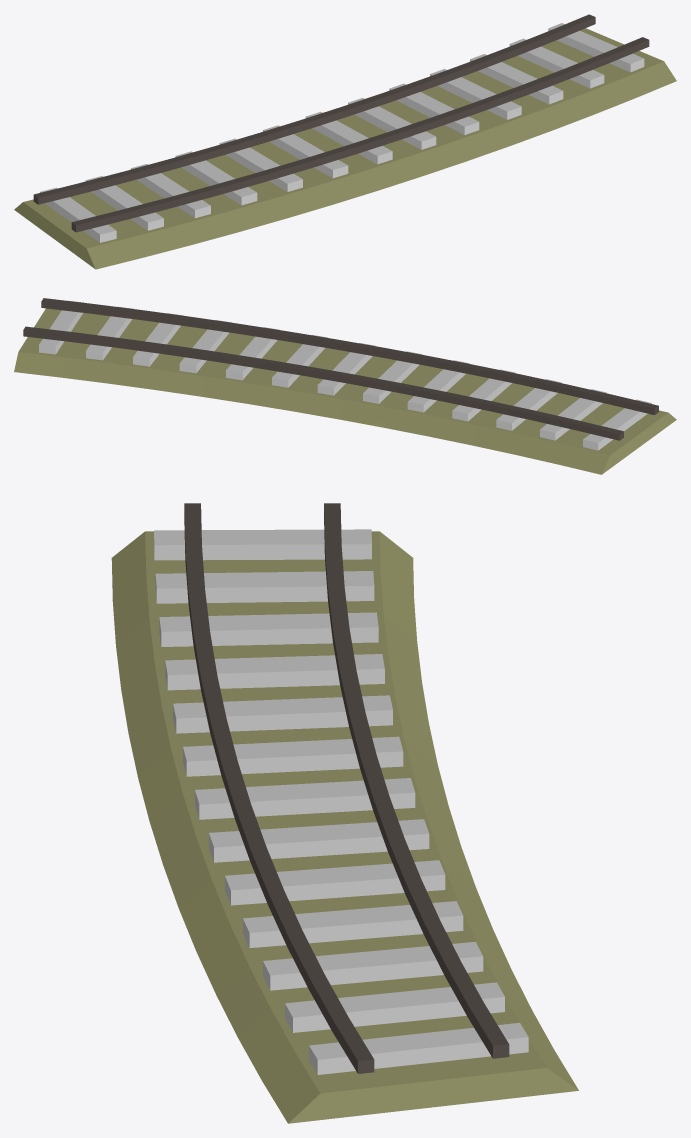
Rendered from SM_Via_CurvaR60_v0_Hormigon_LOD1.fbx.
The picture shows the model from 3 angles, top to bottom: view 1: azimuth 30°, elevation 25°; view 2: azimuth 150°, elevation 25°; view 3: azimuth 270°, elevation 25°; orthographic projection. The views are drawn at different scales.
Parts seen in each view (by area): view 1: SM_via_trazado_v10_LOD1; view 2: SM_via_trazado_v10_LOD1; view 3: SM_via_trazado_v10_LOD1.
Boxes of the visible parts, left/top/right/bottom form: SM_via_trazado_v10_LOD1: left=14, top=14, right=676, bottom=269; SM_via_trazado_v10_LOD1: left=14, top=298, right=676, bottom=474; SM_via_trazado_v10_LOD1: left=111, top=503, right=578, bottom=1123.
Size of the model in its own units: 16 by 0.72 by 5.58.
